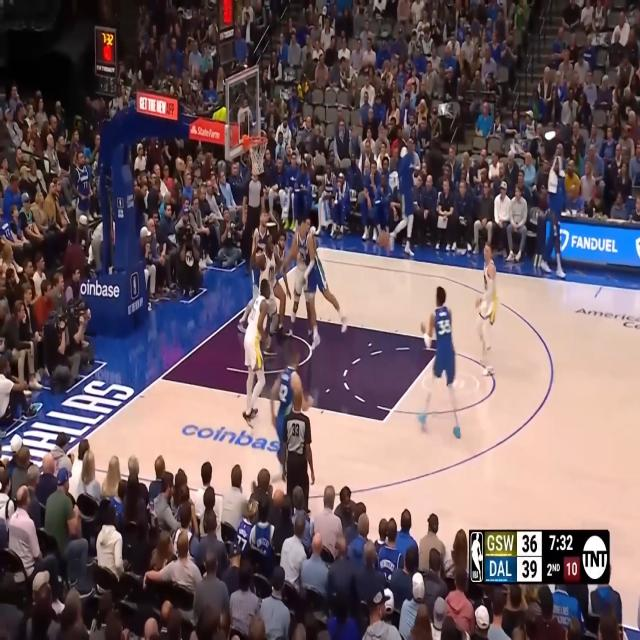Ball: (379, 230, 390, 250)
Period: (546, 560, 561, 578)
Player: (280, 222, 346, 350), (418, 284, 462, 440), (270, 348, 316, 481), (251, 228, 292, 357), (279, 216, 315, 342), (241, 279, 271, 426), (239, 208, 273, 336), (478, 238, 498, 378), (270, 231, 292, 342)
Ref: (282, 380, 315, 503)
Shot Clock: (566, 560, 578, 576)
Team Name: (487, 556, 514, 578), (485, 532, 515, 551)
Team Points: (520, 530, 539, 554), (521, 558, 539, 580)
Time Remaining: (546, 531, 575, 554)
